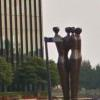Statue: (41, 16, 87, 93)
